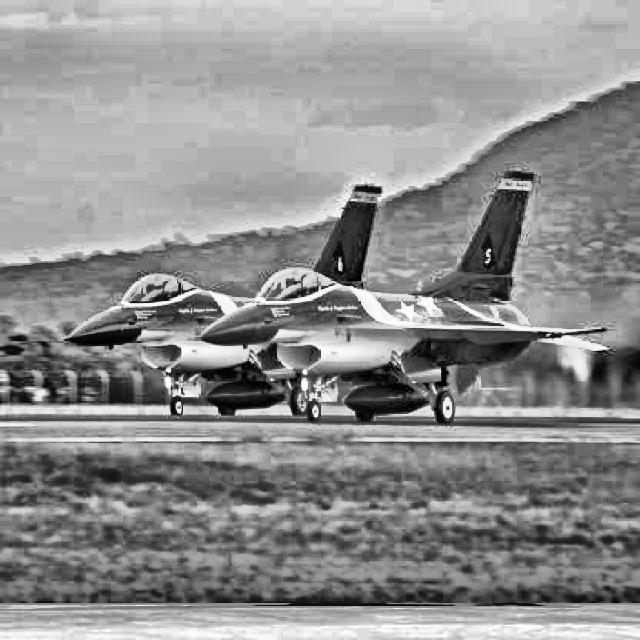F16: (187, 166, 610, 425), (57, 183, 383, 415)
